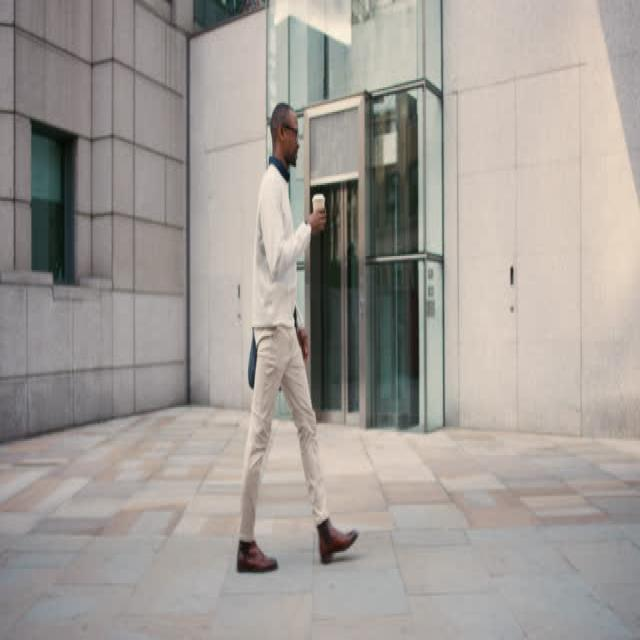Person: (236, 103, 359, 572)
